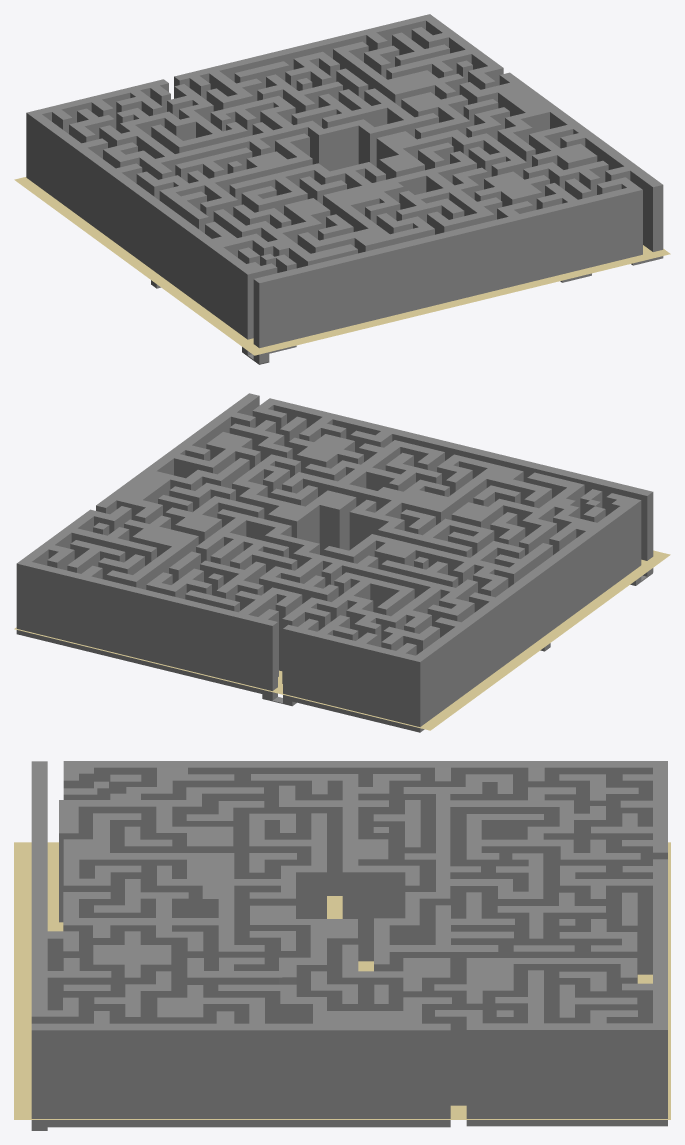
The model's file is Maze_High.fbx.
3 views of the same model, one above another, from view 1: azimuth 30°, elevation 25°; view 2: azimuth 150°, elevation 25°; view 3: azimuth 270°, elevation 25° (orthographic). The views are drawn at different scales.
Parts seen in each view (by area): view 1: Plane; view 2: Plane; view 3: Plane.
Boxes of the visible parts, x1,y1,x2,y2 form: Plane: [14, 14, 670, 364]; Plane: [14, 393, 670, 732]; Plane: [14, 761, 670, 1130].
Bounding box in the file's own units: 24379 × 4770 × 24379.
